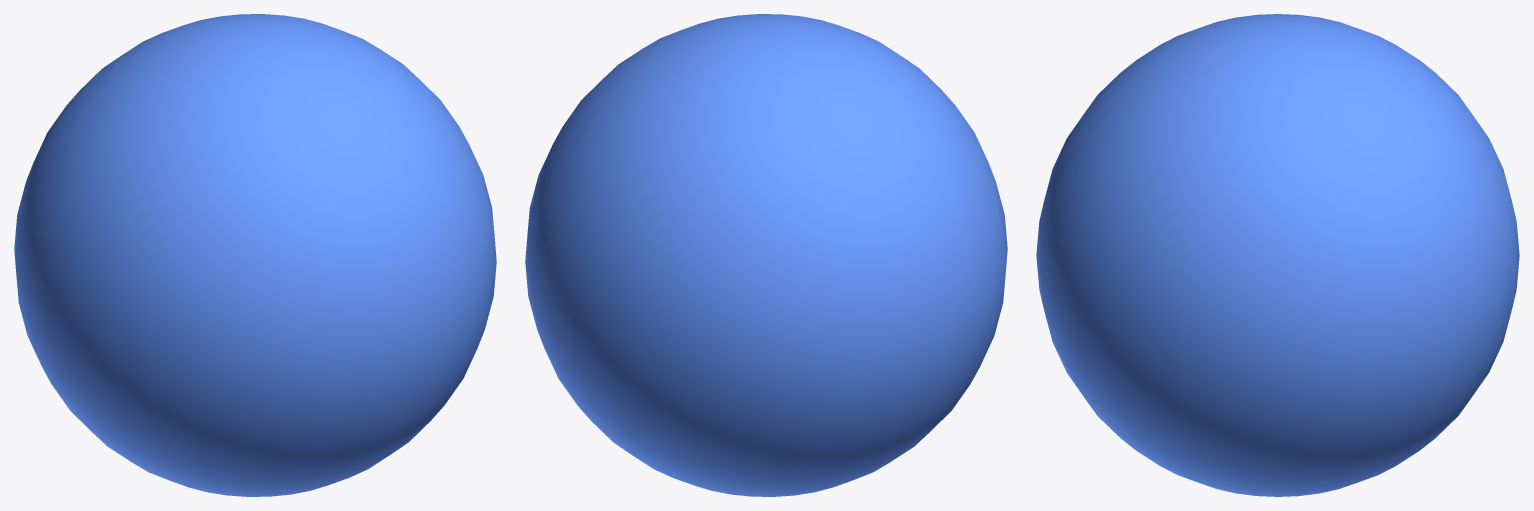
Rendered from neptune.glb.
3 renders of one model, left to right at view 1: azimuth 30°, elevation 25°; view 2: azimuth 150°, elevation 25°; view 3: azimuth 270°, elevation 25°, orthographic.
Visible parts, largest first — view 1: neptune; view 2: neptune; view 3: neptune.
Part boxes in pixels (x1=…): neptune: x1=14, y1=14, x2=496, y2=496; neptune: x1=525, y1=14, x2=1007, y2=496; neptune: x1=1036, y1=14, x2=1519, y2=496.
Size of the model in its own units: 2 by 2 by 2.
